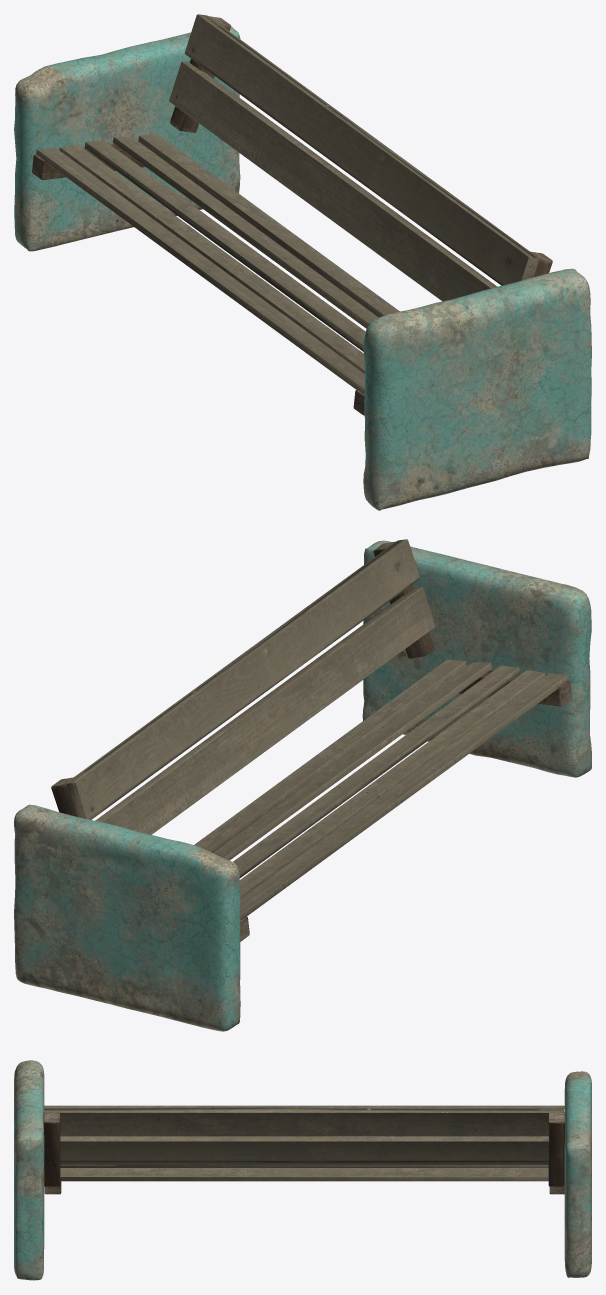
Rendered from sov_bench.glb.
3 renders of one model, top to bottom at view 1: azimuth 30°, elevation 25°; view 2: azimuth 150°, elevation 25°; view 3: azimuth 270°, elevation 25°, orthographic. The views are drawn at different scales.
Parts seen in each view (by area): view 1: Bench_sides, Bench_crossbeams_up, Bench_crossbeams_down, Bench_fastening; view 2: Bench_sides, Bench_crossbeams_up, Bench_crossbeams_down, Bench_fastening; view 3: Bench_crossbeams_up, Bench_sides, Bench_crossbeams_down, Bench_fastening.
Boxes of the visible parts, bbox=[...] form: Bench_sides: bbox=[14, 26, 591, 510]; Bench_crossbeams_up: bbox=[169, 14, 539, 301]; Bench_crossbeams_down: bbox=[36, 134, 399, 393]; Bench_fastening: bbox=[32, 16, 552, 415]; Bench_sides: bbox=[14, 540, 591, 1031]; Bench_crossbeams_up: bbox=[65, 539, 435, 834]; Bench_crossbeams_down: bbox=[194, 659, 568, 919]; Bench_fastening: bbox=[51, 541, 571, 941]; Bench_crossbeams_up: bbox=[43, 1105, 564, 1165]; Bench_sides: bbox=[14, 1060, 591, 1280]; Bench_crossbeams_down: bbox=[60, 1165, 548, 1181]; Bench_fastening: bbox=[43, 1112, 564, 1194].
Bounding box in the file's own units: 0.6484 × 0.5778 × 1.9.
4 materials, 4 textured.
